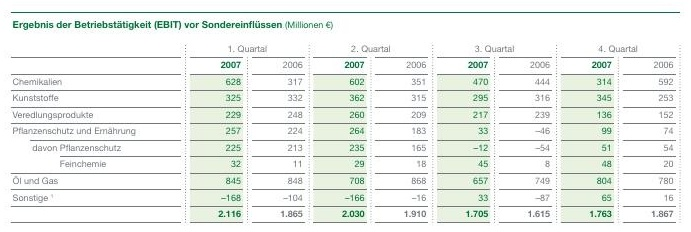table: (0, 0, 691, 232)
